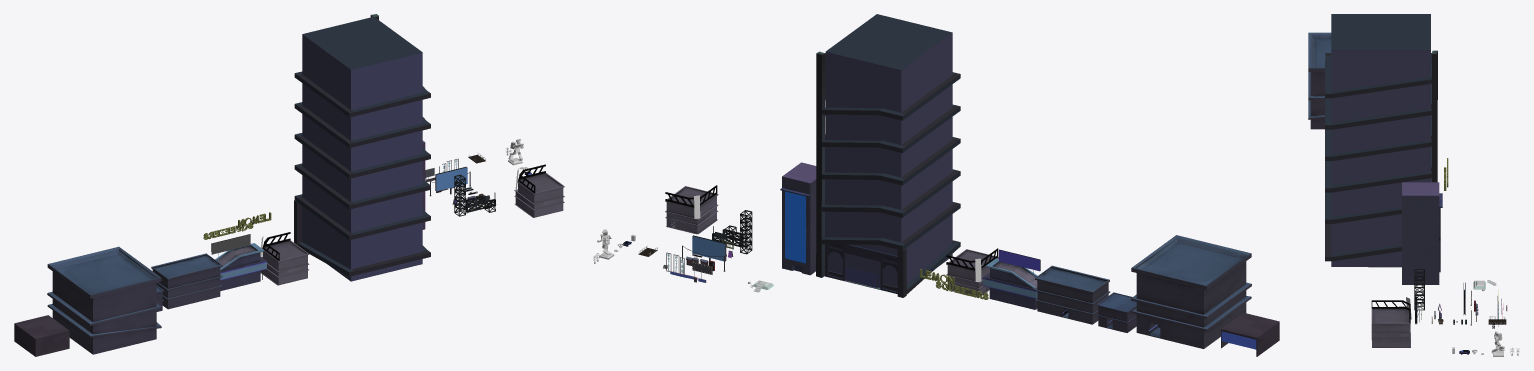
Rendered from PropsBuildings.fbx.
3 renders of one model, left to right at view 1: azimuth 30°, elevation 25°; view 2: azimuth 150°, elevation 25°; view 3: azimuth 270°, elevation 25°, orthographic. The views are drawn at different scales.
Visible parts, largest first — view 1: FinalBuilding_Big_2, FinalBuilding_Big_5, FinalBuilding_1, FinalBuilding_Big_3, FinalBuilding_Big_064, FinalBuilding_Big_1, Street1_Building_FlyingCarPark, Props-Billboards5; view 2: FinalBuilding_Big_2, FinalBuilding_Big_5, FinalBuilding_Big_4, FinalBuilding_1, FinalBuilding_Big_3, FinalBuilding_Big_064, Street1_Building_FlyingCarPark, FinalBuilding_Big_1, FinalBuilding_2, Props-Billboards5; view 3: FinalBuilding_Big_2, FinalBuilding_Big_4, FinalBuilding_Big_5, FinalBuilding_Big_064, statue_3ds.
Part boxes in pixels (x1,y1,x2,y2): FinalBuilding_Big_2: (294,14,430,281); FinalBuilding_Big_5: (47,246,161,354); FinalBuilding_1: (151,253,222,309); FinalBuilding_Big_3: (211,234,266,290); FinalBuilding_Big_064: (514,164,564,217); FinalBuilding_Big_1: (260,232,309,285); Street1_Building_FlyingCarPark: (14,315,69,356); Props-Billboards5: (435,166,467,194); FinalBuilding_Big_2: (816,14,960,297); FinalBuilding_Big_5: (1131,235,1251,348); FinalBuilding_Big_4: (780,162,816,275); FinalBuilding_1: (1034,265,1110,324); FinalBuilding_Big_3: (983,249,1040,309); FinalBuilding_Big_064: (665,185,718,234); Street1_Building_FlyingCarPark: (1221,313,1279,356); FinalBuilding_Big_1: (946,248,998,297); FinalBuilding_2: (1096,292,1136,332); Props-Billboards5: (692,235,726,261); FinalBuilding_Big_2: (1325,14,1437,267); FinalBuilding_Big_4: (1402,182,1442,284); FinalBuilding_Big_5: (1308,32,1331,129); FinalBuilding_Big_064: (1371,300,1410,347); statue_3ds: (1491,331,1504,356).
Bounding box in the file's own units: 184 × 65.92 × 57.83.
